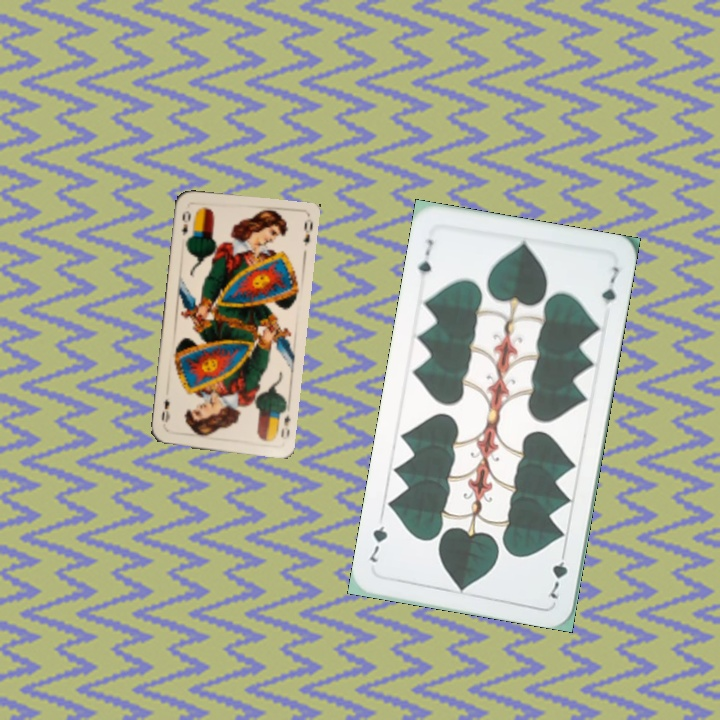EO: (177, 207, 193, 238), (277, 410, 293, 440)
G7: (543, 544, 571, 602), (413, 235, 436, 277)
